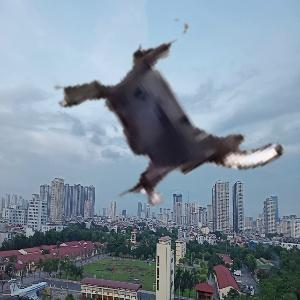drone: (55, 11, 277, 233)
